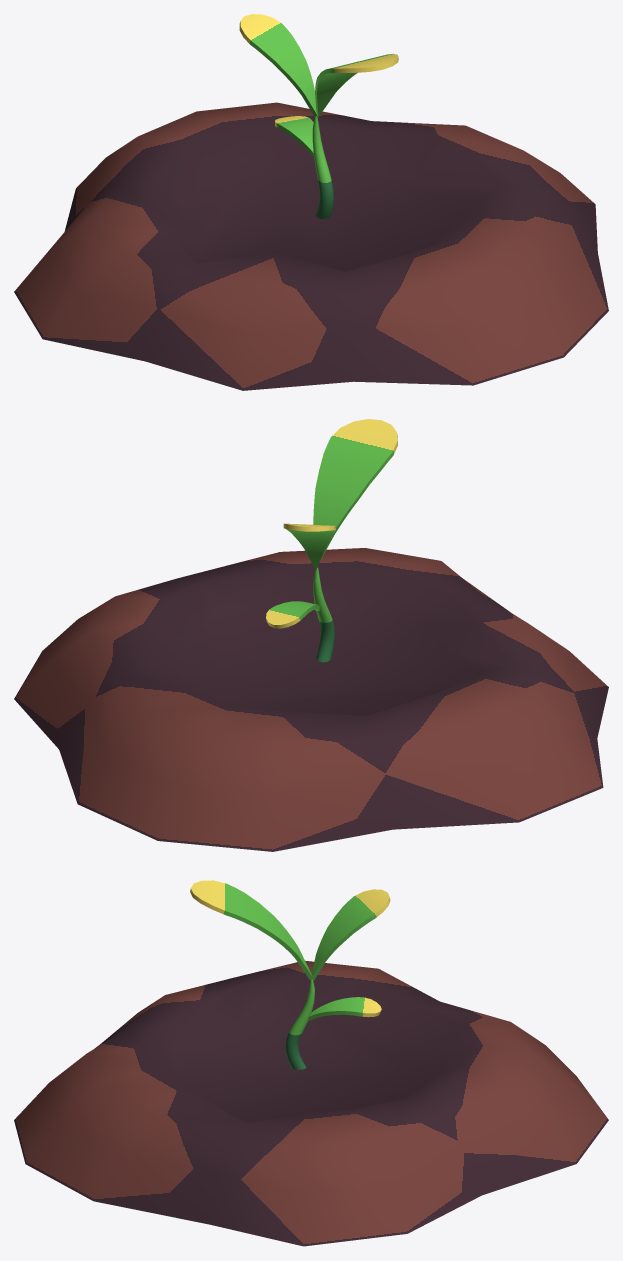
Rendered from Tierra_Fertil.fbx.
3 renders of one model, top to bottom at view 1: azimuth 30°, elevation 25°; view 2: azimuth 150°, elevation 25°; view 3: azimuth 270°, elevation 25°, orthographic. The views are drawn at different scales.
Visible parts, largest first — view 1: Tierra_Fertil; view 2: Tierra_Fertil; view 3: Tierra_Fertil.
Boxes of the visible parts, <box> form: Tierra_Fertil: <box>14,14,608,390</box>; Tierra_Fertil: <box>14,419,608,851</box>; Tierra_Fertil: <box>14,880,608,1246</box>.
Size of the model in its own units: 150 by 64.77 by 150.
